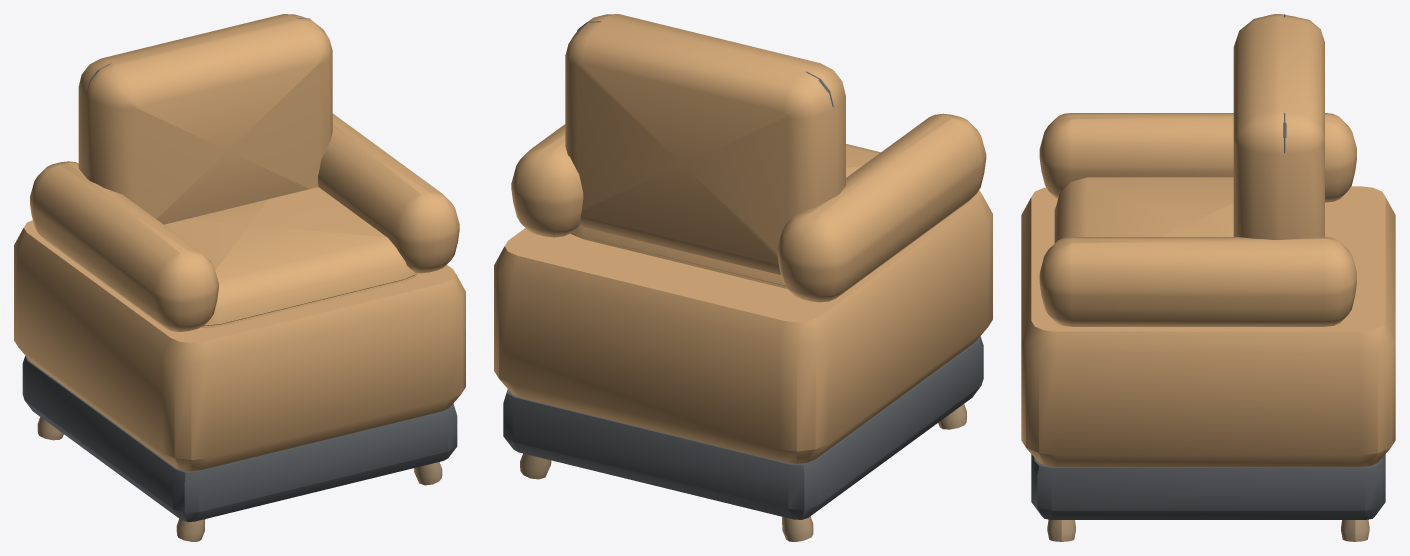
The model's file is bakery-and-cafe-armchair-lounge-rust-3d125c58__22210.glb.
3 views of the same model, side by side, from view 1: azimuth 30°, elevation 25°; view 2: azimuth 150°, elevation 25°; view 3: azimuth 270°, elevation 25° (orthographic). The views are drawn at different scales.
Parts seen in each view (by area): view 1: armchair-lounge-rust; view 2: armchair-lounge-rust; view 3: armchair-lounge-rust.
Boxes of the visible parts, x1=… form: armchair-lounge-rust: x1=14, y1=14, x2=465, y2=541; armchair-lounge-rust: x1=494, y1=14, x2=992, y2=541; armchair-lounge-rust: x1=1021, y1=14, x2=1395, y2=541.
Bounding box in the file's own units: 0.727 × 0.9052 × 0.74.
